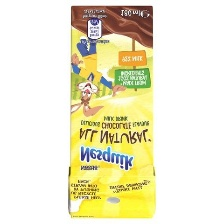carton: (64, 2, 157, 222)
